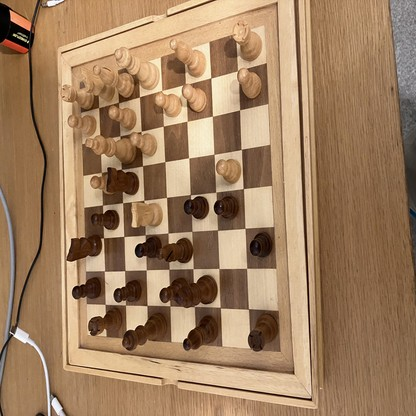bishop_black: (183, 317, 218, 350), (160, 238, 193, 263)
bishop_white: (170, 42, 207, 78), (93, 66, 135, 97)
king_black: (176, 275, 217, 307)
king_white: (86, 135, 136, 160)
knight_black: (107, 167, 139, 194), (68, 237, 103, 259)
knight_white: (80, 67, 115, 100), (131, 202, 163, 227)
pawn_black: (113, 280, 141, 302), (73, 277, 101, 299), (160, 279, 185, 302), (92, 210, 120, 230), (184, 197, 209, 219), (135, 239, 161, 260), (250, 232, 272, 256), (216, 197, 238, 219)
pawn_white: (182, 84, 207, 113), (238, 69, 262, 98), (130, 133, 158, 157), (155, 92, 182, 116), (108, 106, 136, 128), (216, 160, 241, 183), (68, 115, 97, 134), (91, 175, 114, 194)
queen_black: (123, 316, 168, 351)
queen_white: (115, 49, 159, 89)
rock_black: (248, 315, 277, 351), (88, 311, 121, 335)
rock_white: (233, 21, 263, 61), (60, 85, 94, 111)
